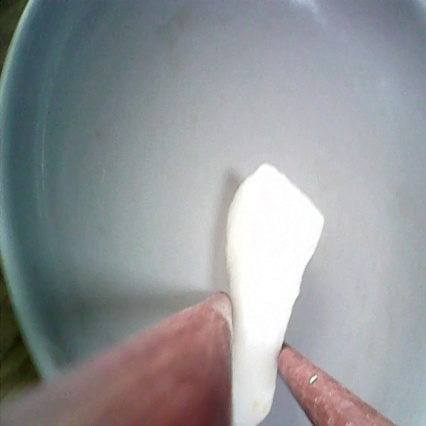white_chinese-yam: (223, 159, 325, 426)
